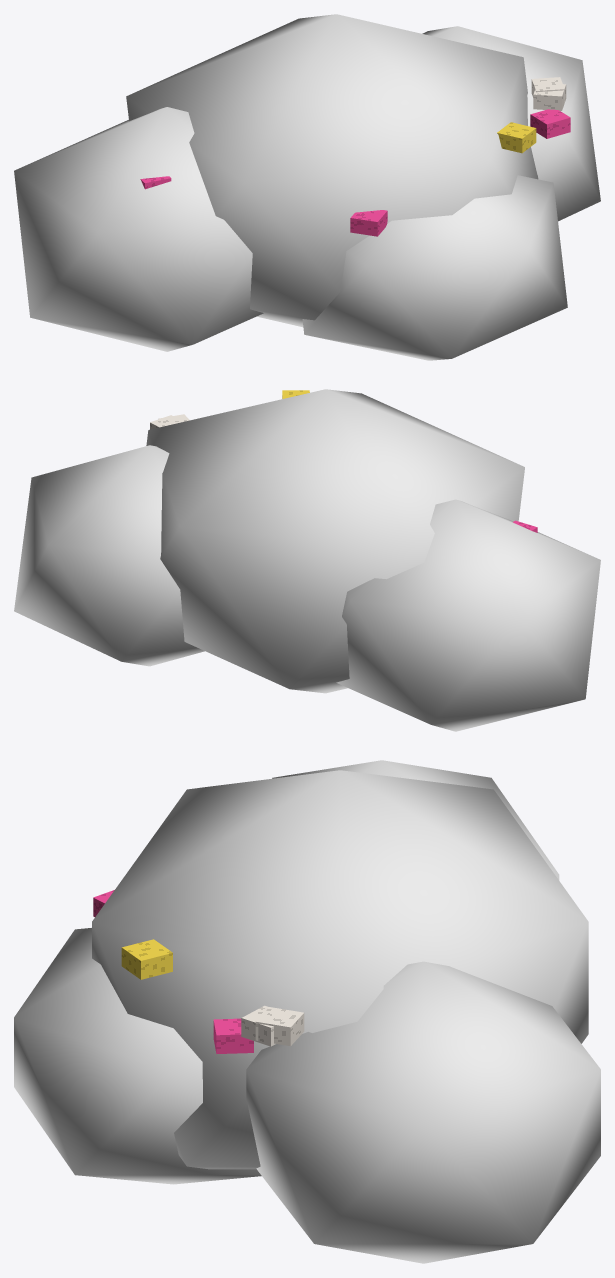
Rendered from Bush.fbx.
The picture shows the model from 3 angles, top to bottom: view 1: azimuth 30°, elevation 25°; view 2: azimuth 150°, elevation 25°; view 3: azimuth 270°, elevation 25°; orthographic projection. The views are drawn at different scales.
Visible parts, largest first — view 1: Bush clump 0, Bush clump 2, Bush clump 3, Bush clump 1, Bush flower 6, Bush flower 4, Bush flower 3, Bush flower 5, Bush flower 2; view 2: Bush clump 0, Bush clump 2, Bush clump 1; view 3: Bush clump 0, Bush clump 1, Bush clump 3, Bush clump 2, Bush flower 4, Bush flower 2, Bush flower 6, Bush flower 5.
Part boxes in pixels (x1=…): Bush clump 0: x1=126, y1=14, x2=538, y2=327; Bush clump 2: x1=14, y1=107, x2=263, y2=351; Bush clump 3: x1=302, y1=175, x2=567, y2=360; Bush clump 1: x1=422, y1=26, x2=600, y2=221; Bush flower 6: x1=530, y1=109, x2=570, y2=138; Bush flower 4: x1=497, y1=122, x2=536, y2=153; Bush flower 3: x1=350, y1=210, x2=387, y2=236; Bush flower 5: x1=533, y1=84, x2=566, y2=110; Bush flower 2: x1=531, y1=77, x2=564, y2=103; Bush clump 0: x1=146, y1=389, x2=524, y2=693; Bush clump 2: x1=336, y1=499, x2=600, y2=731; Bush clump 1: x1=14, y1=445, x2=204, y2=666; Bush clump 0: x1=92, y1=770, x2=588, y2=1169; Bush clump 1: x1=246, y1=961, x2=600, y2=1263; Bush clump 3: x1=14, y1=928, x2=261, y2=1184; Bush clump 2: x1=272, y1=760, x2=559, y2=880; Bush flower 4: x1=121, y1=939, x2=172, y2=979; Bush flower 2: x1=255, y1=1007, x2=304, y2=1046; Bush flower 6: x1=213, y1=1018, x2=253, y2=1053; Bush flower 5: x1=241, y1=1005, x2=275, y2=1046.
Size of the model in its own units: 2.04 by 1.1 by 1.41.
Materials: 6 (3 with a texture image).
